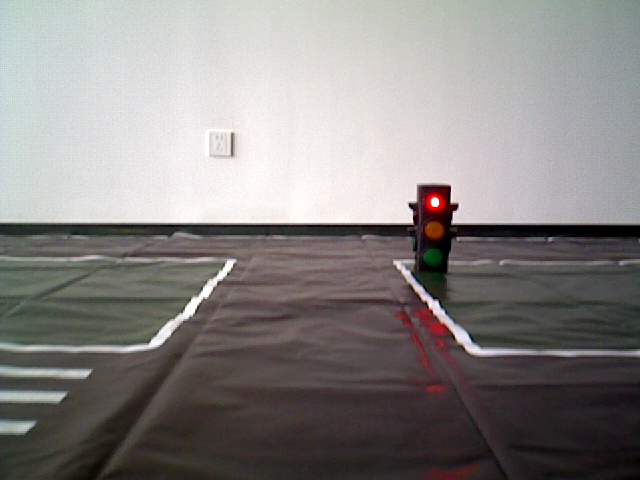red: (417, 183, 449, 267)
